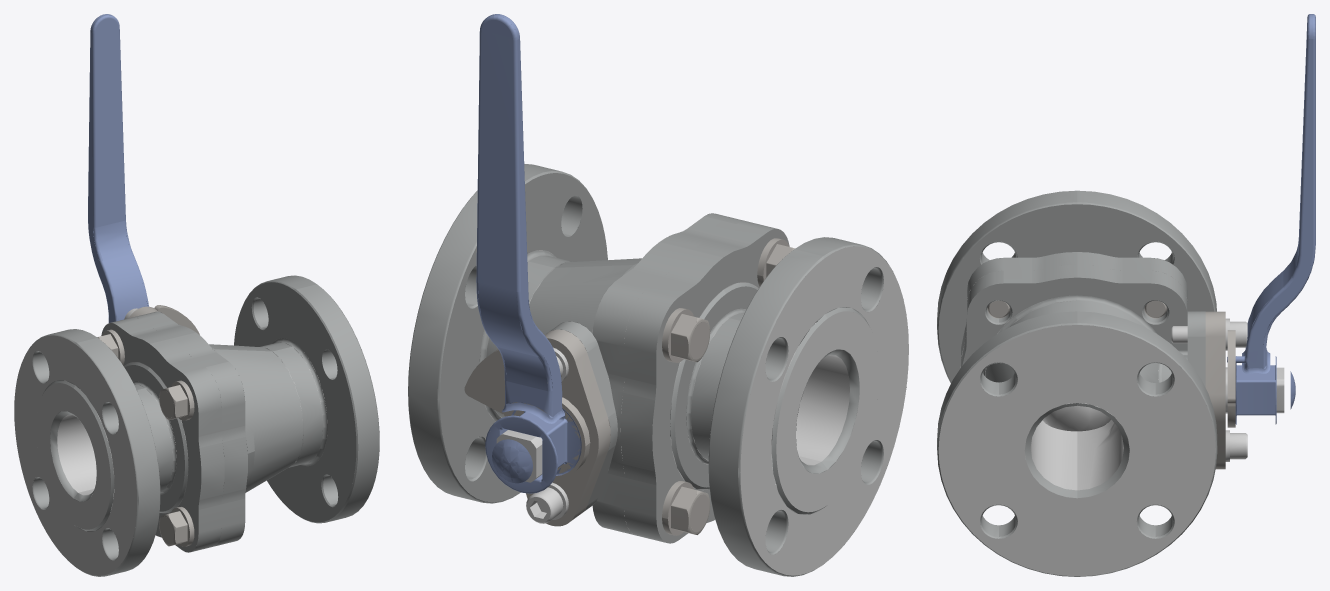
The picture shows the model from 3 angles, left to right: view 1: azimuth 30°, elevation 25°; view 2: azimuth 150°, elevation 25°; view 3: azimuth 270°, elevation 25°; orthographic projection. The views are drawn at different scales.
Parts seen in each view (by area): view 1: Geode; view 2: Geode; view 3: Geode.
Part boxes in pixels (left/top/right/bottom): Geode: left=14, top=14, right=379, bottom=576; Geode: left=408, top=14, right=908, bottom=576; Geode: left=937, top=14, right=1315, bottom=576.
Bounding box in the file's own units: 173 × 301 × 206.
